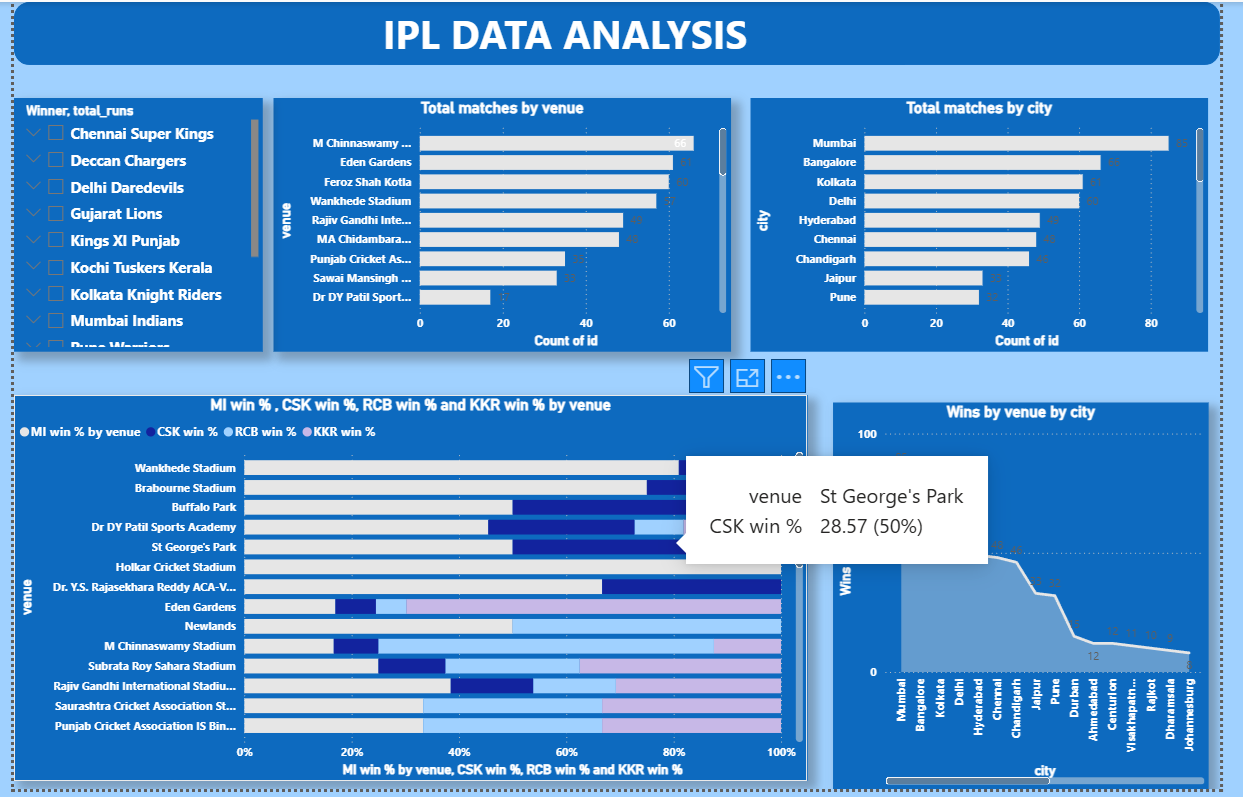

The page's visual inventory and layout, read from the dashboard file:
{"tool":"powerbi","page":{"name":"Venue Stats","canvas":[1306,852],"ordinal":3},"visuals":[{"type":"barChart","title":"Total matches by city","fields":{"Y":["CountNonNull(matches (1) csv.id)"],"Category":["matches (1) csv.city"]},"box":[797.3,103.9,495.3,274.4],"z":0},{"type":"barChart","title":"Total matches by venue","fields":{"Category":["matches (1) csv.venue"],"Y":["CountNonNull(matches (1) csv.id)"]},"box":[280.9,103.9,495.3,274.4],"z":1000},{"type":"areaChart","fields":{"Category":["matches (1) csv.city"],"Y":["matches (1) csv.Wins by venue"]},"box":[887,433.8,406.8,418.4],"z":2000},{"type":"hundredPercentStackedBarChart","title":"MI win % , CSK win %, RCB win % and KKR win % by venue","fields":{"Category":["matches (1) csv.venue"],"Y":["matches (1) csv.MI win % by venue","matches (1) csv.CSK win %","matches (1) csv.RCB win %","matches (1) csv.KKR win %"]},"box":[0,425.5,859.1,417.3],"z":3000},{"type":"slicer","fields":{"Values":["matches (1) csv.winner","deliveries csv.total_runs"]},"box":[0,103.9,269.6,274.4],"z":4000},{"type":"shape","box":[0,0,1305.6,68.2],"z":5000},{"type":"textbox","box":[394.6,0,570,68.2],"z":6000}]}

Visuals, with their boxes in screenshot pixels (x1, y1, x2, y2), scaled from the page's 1306x852 canvas onto the 1243x797 screenshot:
"Total matches by city" barChart: (759,97,1230,354)
"Total matches by venue" barChart: (267,97,739,354)
areaChart - matches (1) csv.city x matches (1) csv.Wins by venue: (844,406,1231,796)
"MI win % , CSK win %, RCB win % and KKR win % by venue" hundredPercentStackedBarChart: (0,398,818,788)
slicer - matches (1) csv.winner x deliveries csv.total_runs: (0,97,257,354)
shape: (0,0,1242,64)
textbox: (376,0,918,64)
